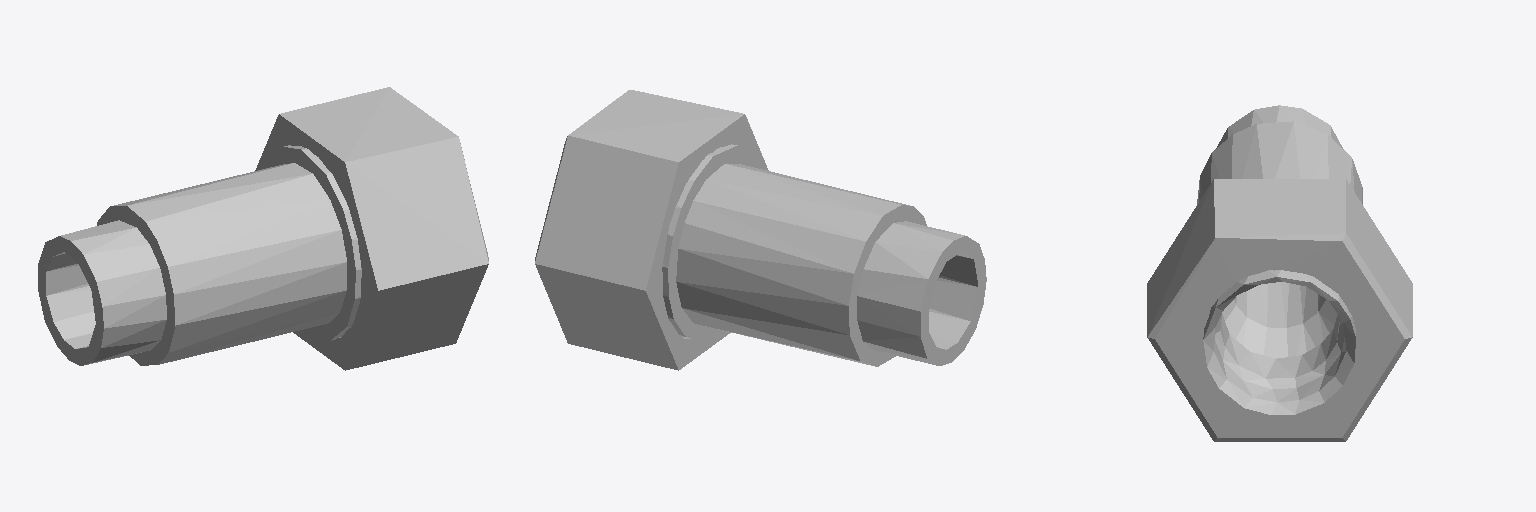
3 views of the same model, side by side, from view 1: azimuth 30°, elevation 25°; view 2: azimuth 150°, elevation 25°; view 3: azimuth 270°, elevation 25° (orthographic).
Visible parts, largest first — view 1: imagetostl_mesh0; view 2: imagetostl_mesh0; view 3: imagetostl_mesh0.
Part boxes in pixels (x1,y1,x2,y2): imagetostl_mesh0: (38,87,488,370); imagetostl_mesh0: (535,90,986,370); imagetostl_mesh0: (1147,105,1412,441).
Size of the model in its own units: 129 by 69.28 by 80.